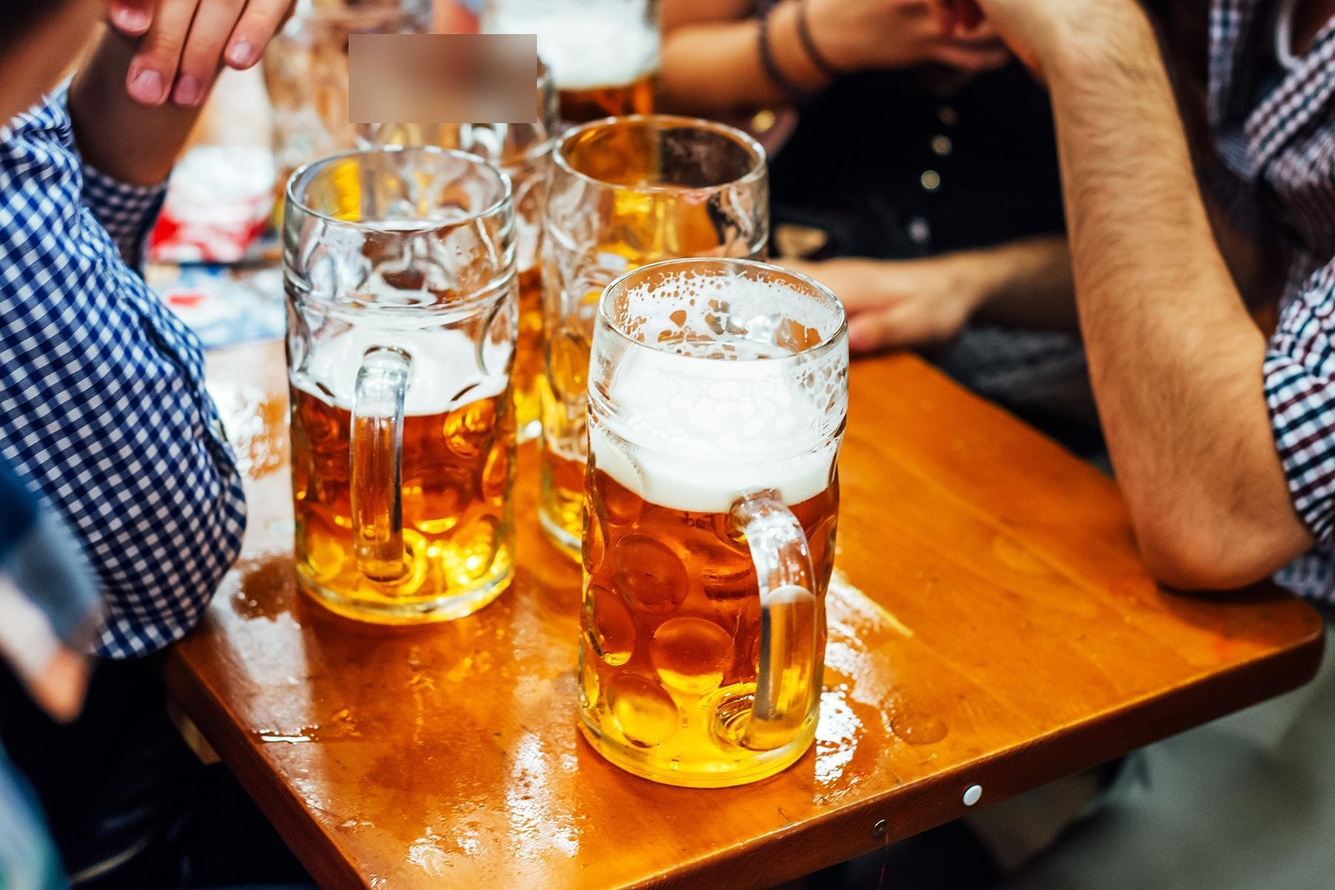glass-mug: (570, 251, 854, 788), (277, 141, 524, 630), (528, 116, 775, 567)
